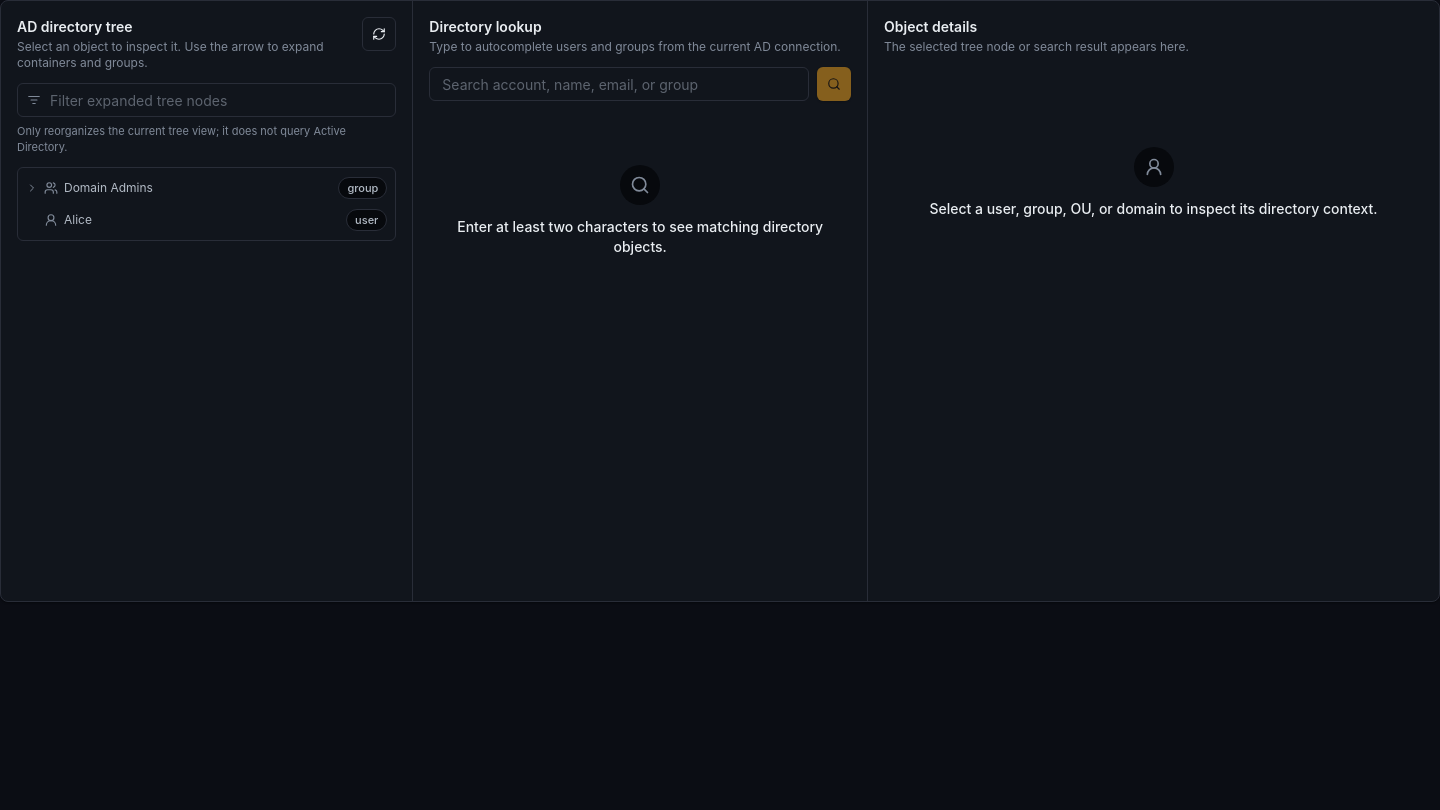
Scenario: DirectoryExplorerWorkbench › shows group details and members in the right inspector when selected
Click the text "Domain Admins" at (108, 188), box 64,180 -> 153,196
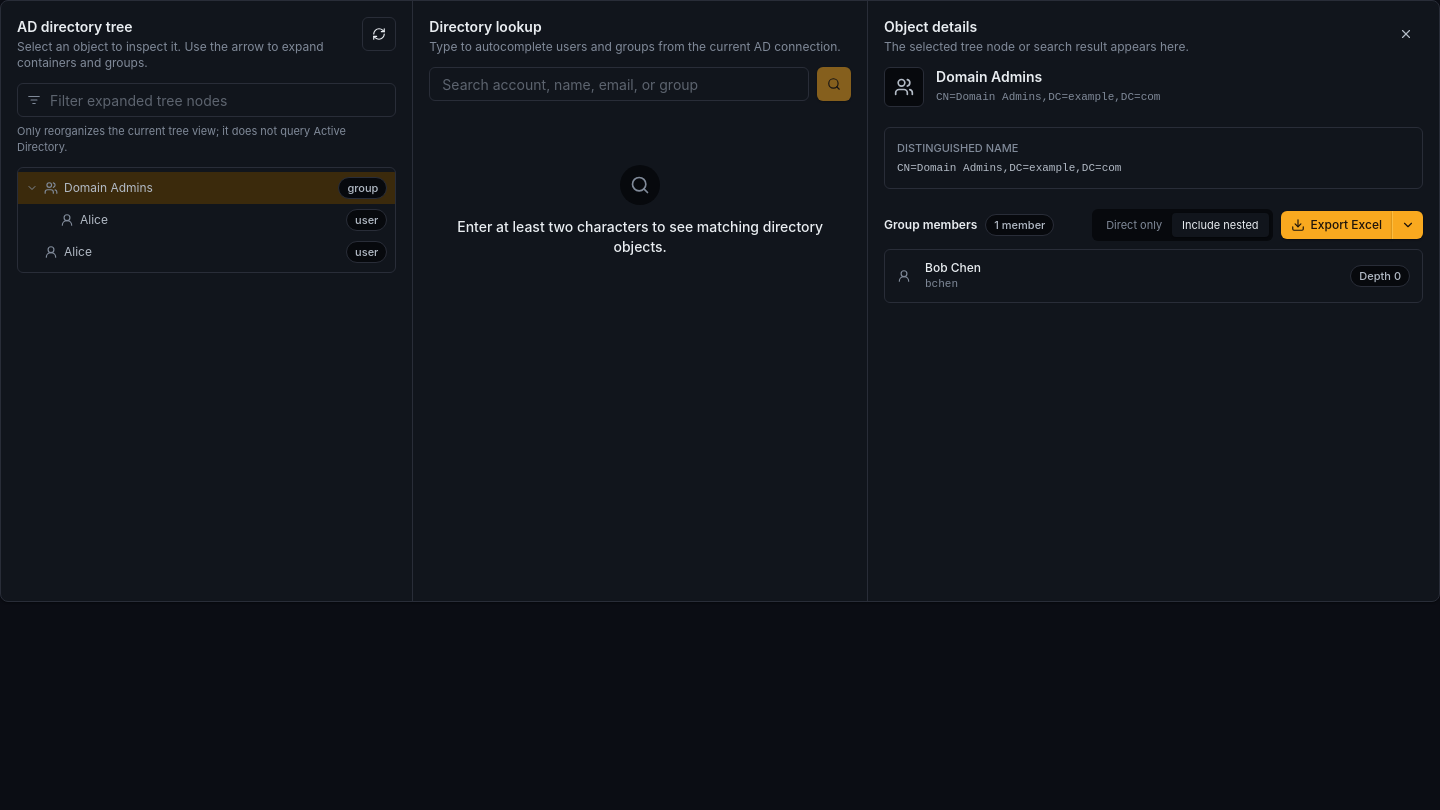
Expected: the heading "Domain Admins" is shown, 936,68 -> 1042,85
Expected: the text "Bob Chen" is shown, 925,260 -> 981,275
